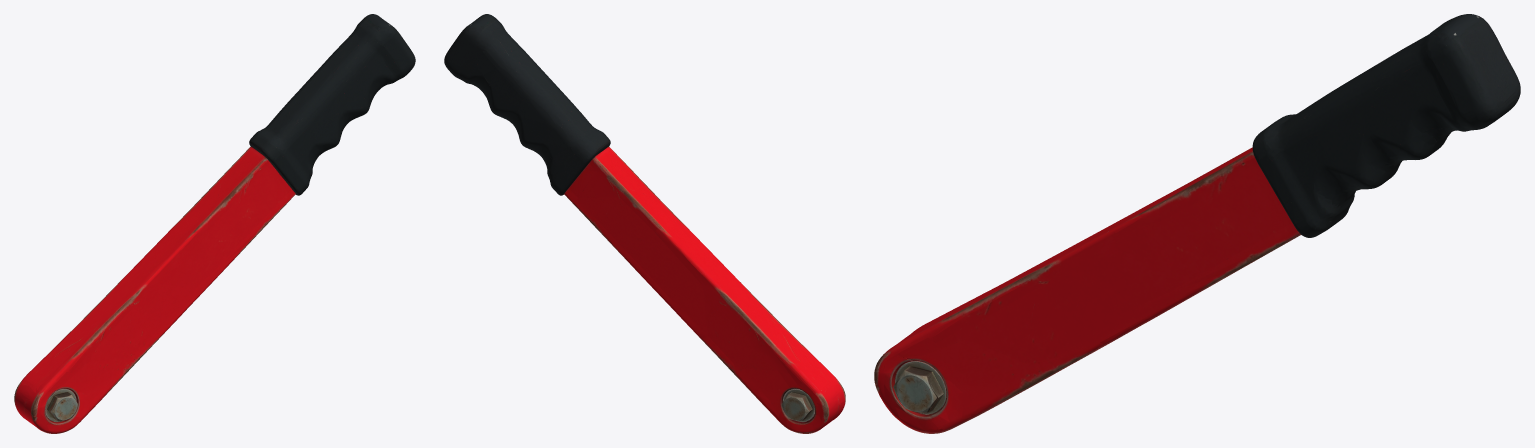
The model's file is leva_maniglia.glb.
3 renders of one model, left to right at view 1: azimuth 30°, elevation 25°; view 2: azimuth 150°, elevation 25°; view 3: azimuth 330°, elevation 25°, orthographic. The views are drawn at different scales.
Parts seen in each view (by area): view 1: Mesh_0; view 2: Mesh_0; view 3: Mesh_0.
Boxes of the visible parts, x1,y1,x2,y2 form: Mesh_0: [14, 14, 415, 433]; Mesh_0: [444, 14, 845, 433]; Mesh_0: [874, 14, 1520, 433].
Size of the model in its own units: 1.9 by 1.55 by 0.23.
1 material, 1 textured.
